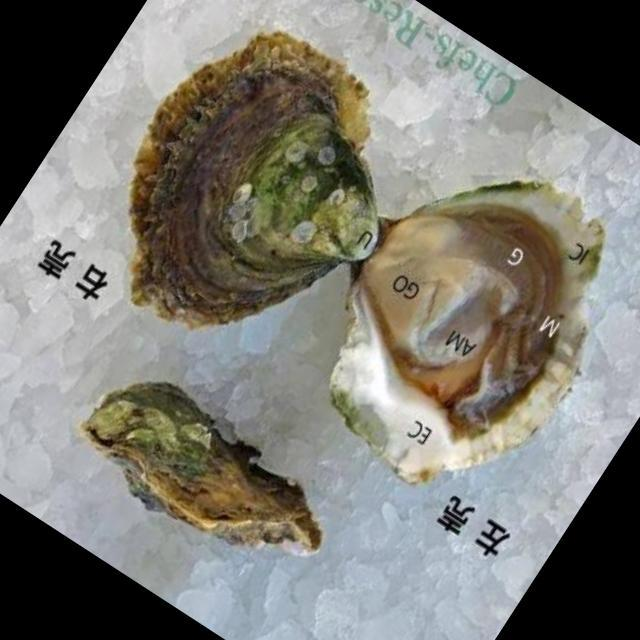Oyster- Indeterminate: (55, 0, 455, 401)
Oyster-Closed: (55, 347, 363, 613)
Oyster-Open: (256, 112, 640, 533)
